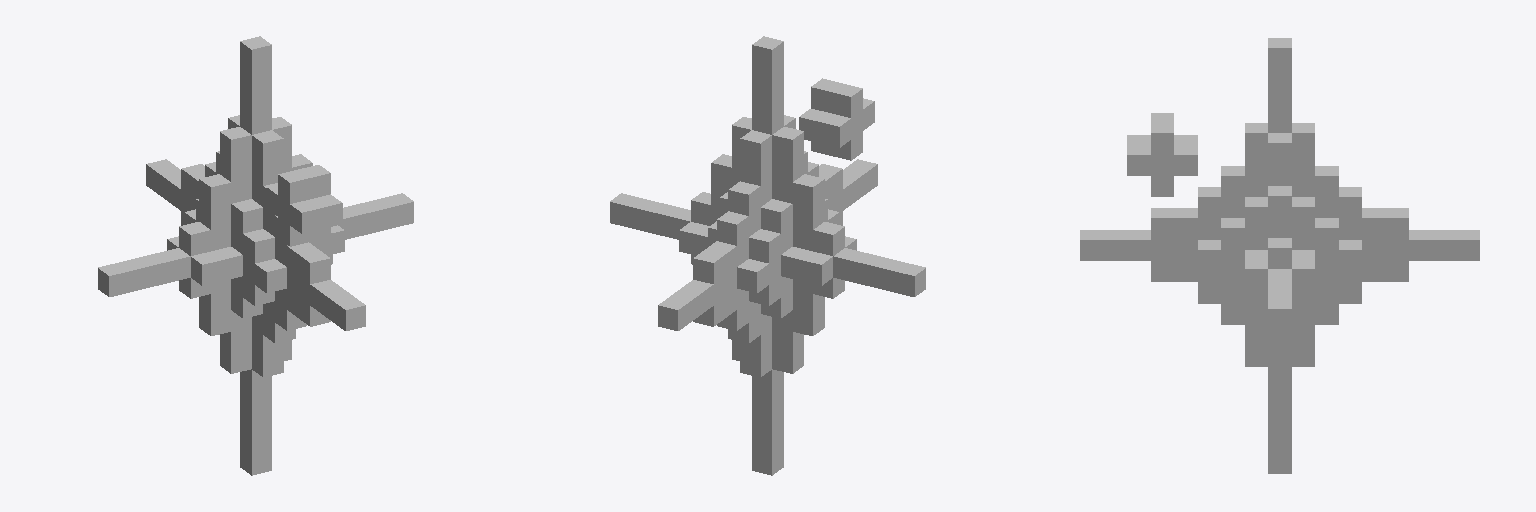
File: object・・EXP.obj
3 views of the same model, side by side, from view 1: azimuth 30°, elevation 25°; view 2: azimuth 150°, elevation 25°; view 3: azimuth 270°, elevation 25° (orthographic).
Visible parts, largest first — view 1: object 1; view 2: object 1; view 3: object 1.
Boxes of the visible parts, x1=… form: object 1: x1=98, y1=36, x2=413, y2=475; object 1: x1=610, y1=36, x2=925, y2=475; object 1: x1=1080, y1=38, x2=1479, y2=473.
Size of the model in its own units: 1.5 by 2 by 1.7.